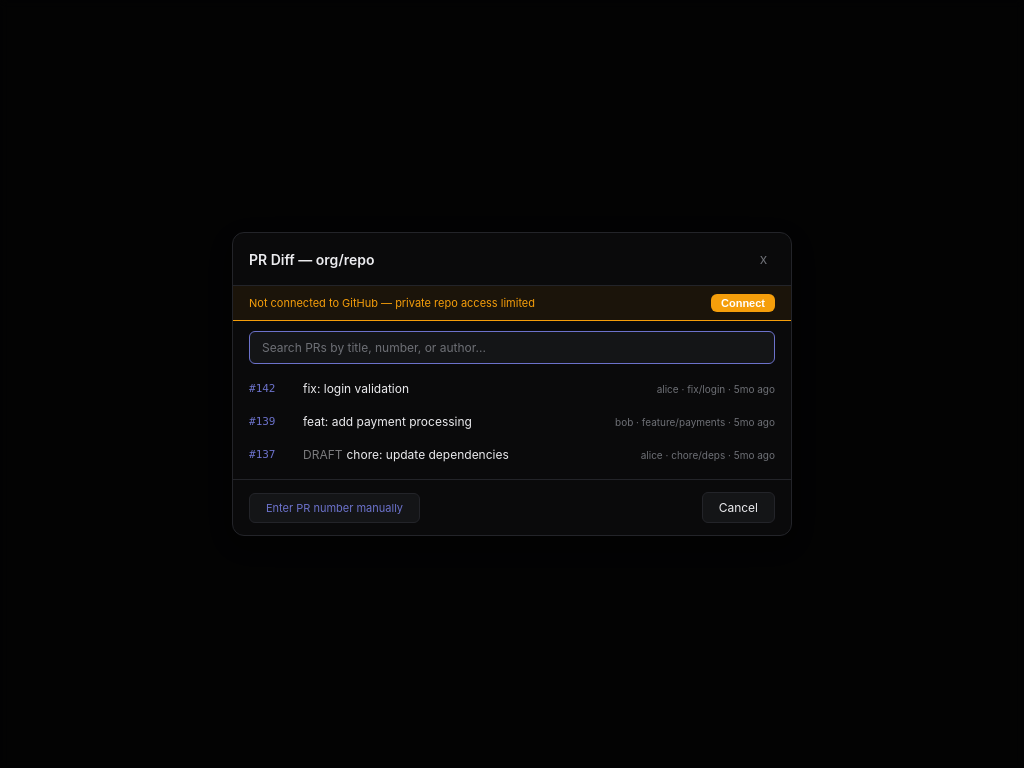
Test: PrPicker › search filters PR list
The image size is (1024, 768).
In the field with placeholder "Search PRs by title, number, or author...": [512, 348] box [249,331,775,364], type "payment"
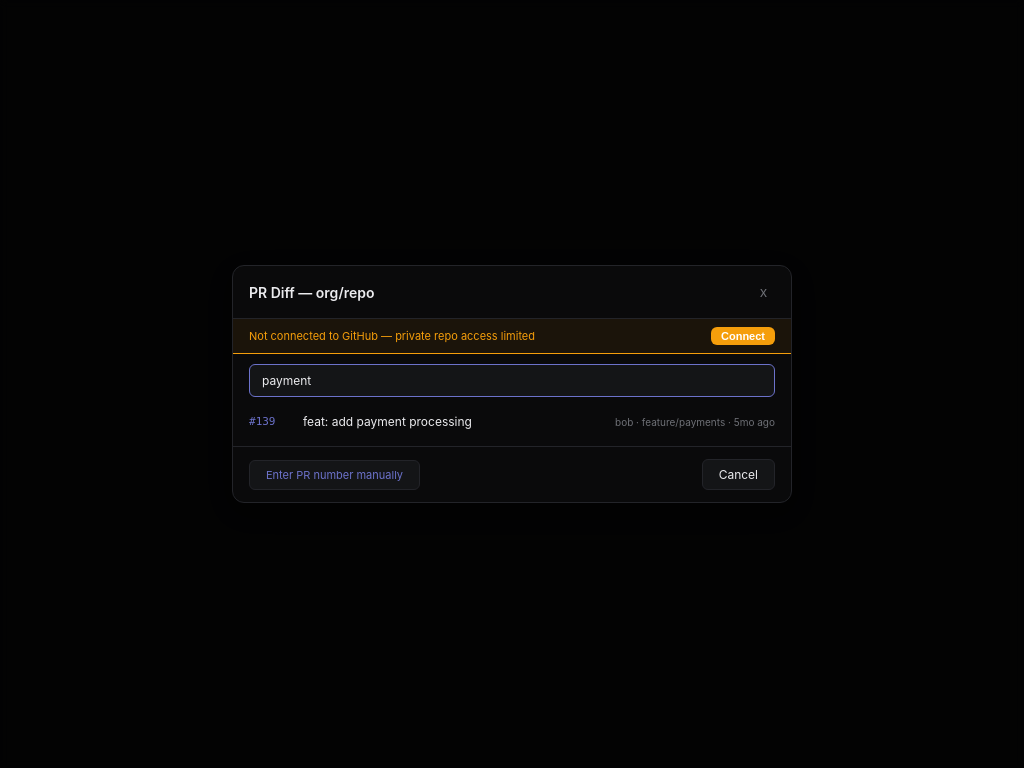
Expected: the text "#139" is shown, [249,415,276,428]
Expected: the button "#142" is gone
